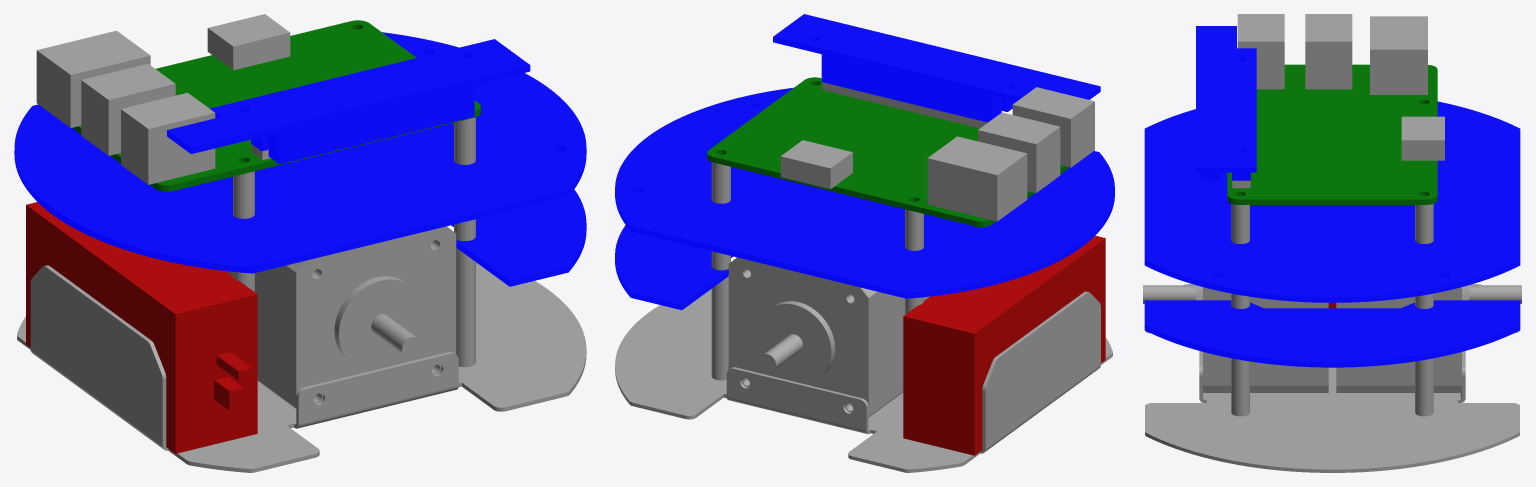
The model's file is blue_raspimouse_body.dae.
3 renders of one model, left to right at view 1: azimuth 30°, elevation 25°; view 2: azimuth 150°, elevation 25°; view 3: azimuth 270°, elevation 25°, orthographic. The views are drawn at different scales.
Visible parts, largest first — view 1: RasPiMouse_body_gray, RasPiMouseCircuitMainBoard, RaspberryPiMouseBattery, RasPiMouseCircuitConnectorBoard, RasPiMouse_body_green, RasPiMouseCircuitSensorBoard; view 2: RasPiMouse_body_gray, RasPiMouseCircuitMainBoard, RaspberryPiMouseBattery, RasPiMouse_body_green, RasPiMouseCircuitConnectorBoard, RasPiMouseCircuitSensorBoard; view 3: RasPiMouse_body_gray, RasPiMouseCircuitMainBoard, RasPiMouse_body_green, RasPiMouseCircuitSensorBoard, RasPiMouseCircuitConnectorBoard.
Boxes of the visible parts, left/top/right/bottom form: RasPiMouse_body_gray: left=17, top=14, right=586, bottom=472; RasPiMouseCircuitMainBoard: left=14, top=32, right=586, bottom=273; RaspberryPiMouseBattery: left=26, top=202, right=257, bottom=453; RasPiMouseCircuitConnectorBoard: left=167, top=39, right=530, bottom=164; RasPiMouse_body_green: left=72, top=20, right=480, bottom=191; RasPiMouseCircuitSensorBoard: left=451, top=189, right=586, bottom=286; RasPiMouse_body_gray: left=615, top=82, right=1112, bottom=472; RasPiMouseCircuitMainBoard: left=615, top=87, right=1114, bottom=298; RaspberryPiMouseBattery: left=903, top=235, right=1105, bottom=455; RasPiMouse_body_green: left=707, top=77, right=1069, bottom=227; RasPiMouseCircuitConnectorBoard: left=773, top=14, right=1100, bottom=122; RasPiMouseCircuitSensorBoard: left=615, top=225, right=732, bottom=310; RasPiMouse_body_gray: left=1143, top=14, right=1521, bottom=472; RasPiMouseCircuitMainBoard: left=1144, top=101, right=1520, bottom=302; RasPiMouse_body_green: left=1227, top=64, right=1437, bottom=204; RasPiMouseCircuitSensorBoard: left=1144, top=300, right=1520, bottom=367; RasPiMouseCircuitConnectorBoard: left=1196, top=26, right=1256, bottom=180.
Bounding box in the file's own units: 0.13 × 0.101 × 0.0793.
